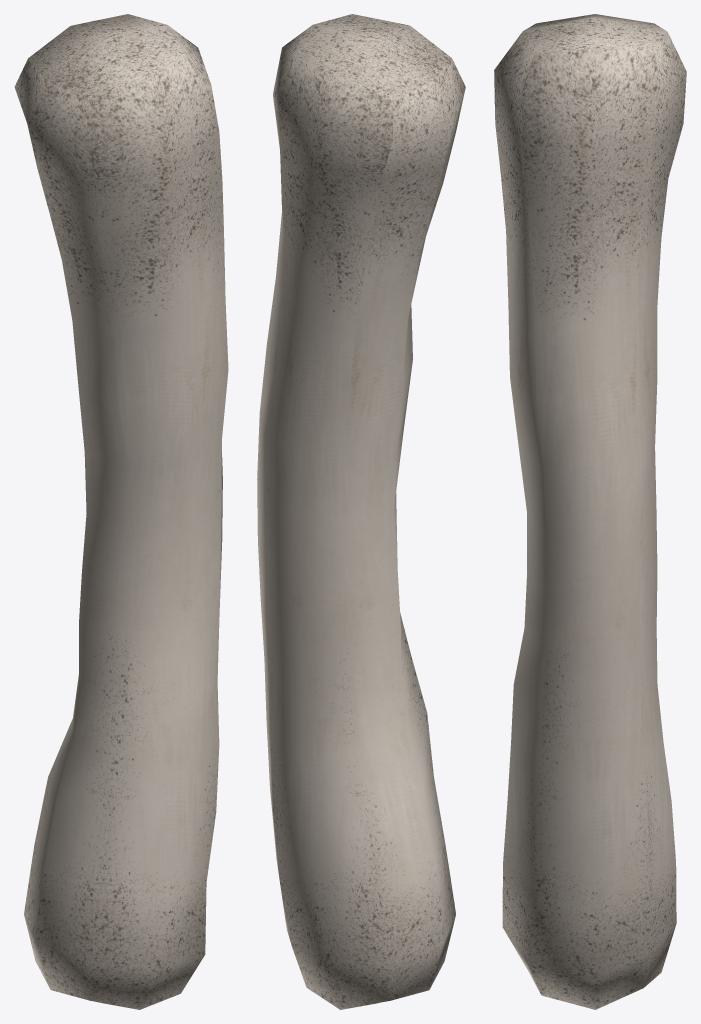
File: bone-3-column.fbx
3 renders of one model, left to right at view 1: azimuth 30°, elevation 25°; view 2: azimuth 150°, elevation 25°; view 3: azimuth 270°, elevation 25°, orthographic.
Parts seen in each view (by area): view 1: Cube; view 2: Cube; view 3: Cube.
Part boxes in pixels (x1,y1,x2,y2): Cube: [14, 14, 228, 1009]; Cube: [257, 14, 465, 1009]; Cube: [494, 14, 686, 1009].
Size of the model in its own units: 253 by 1188 by 214.
